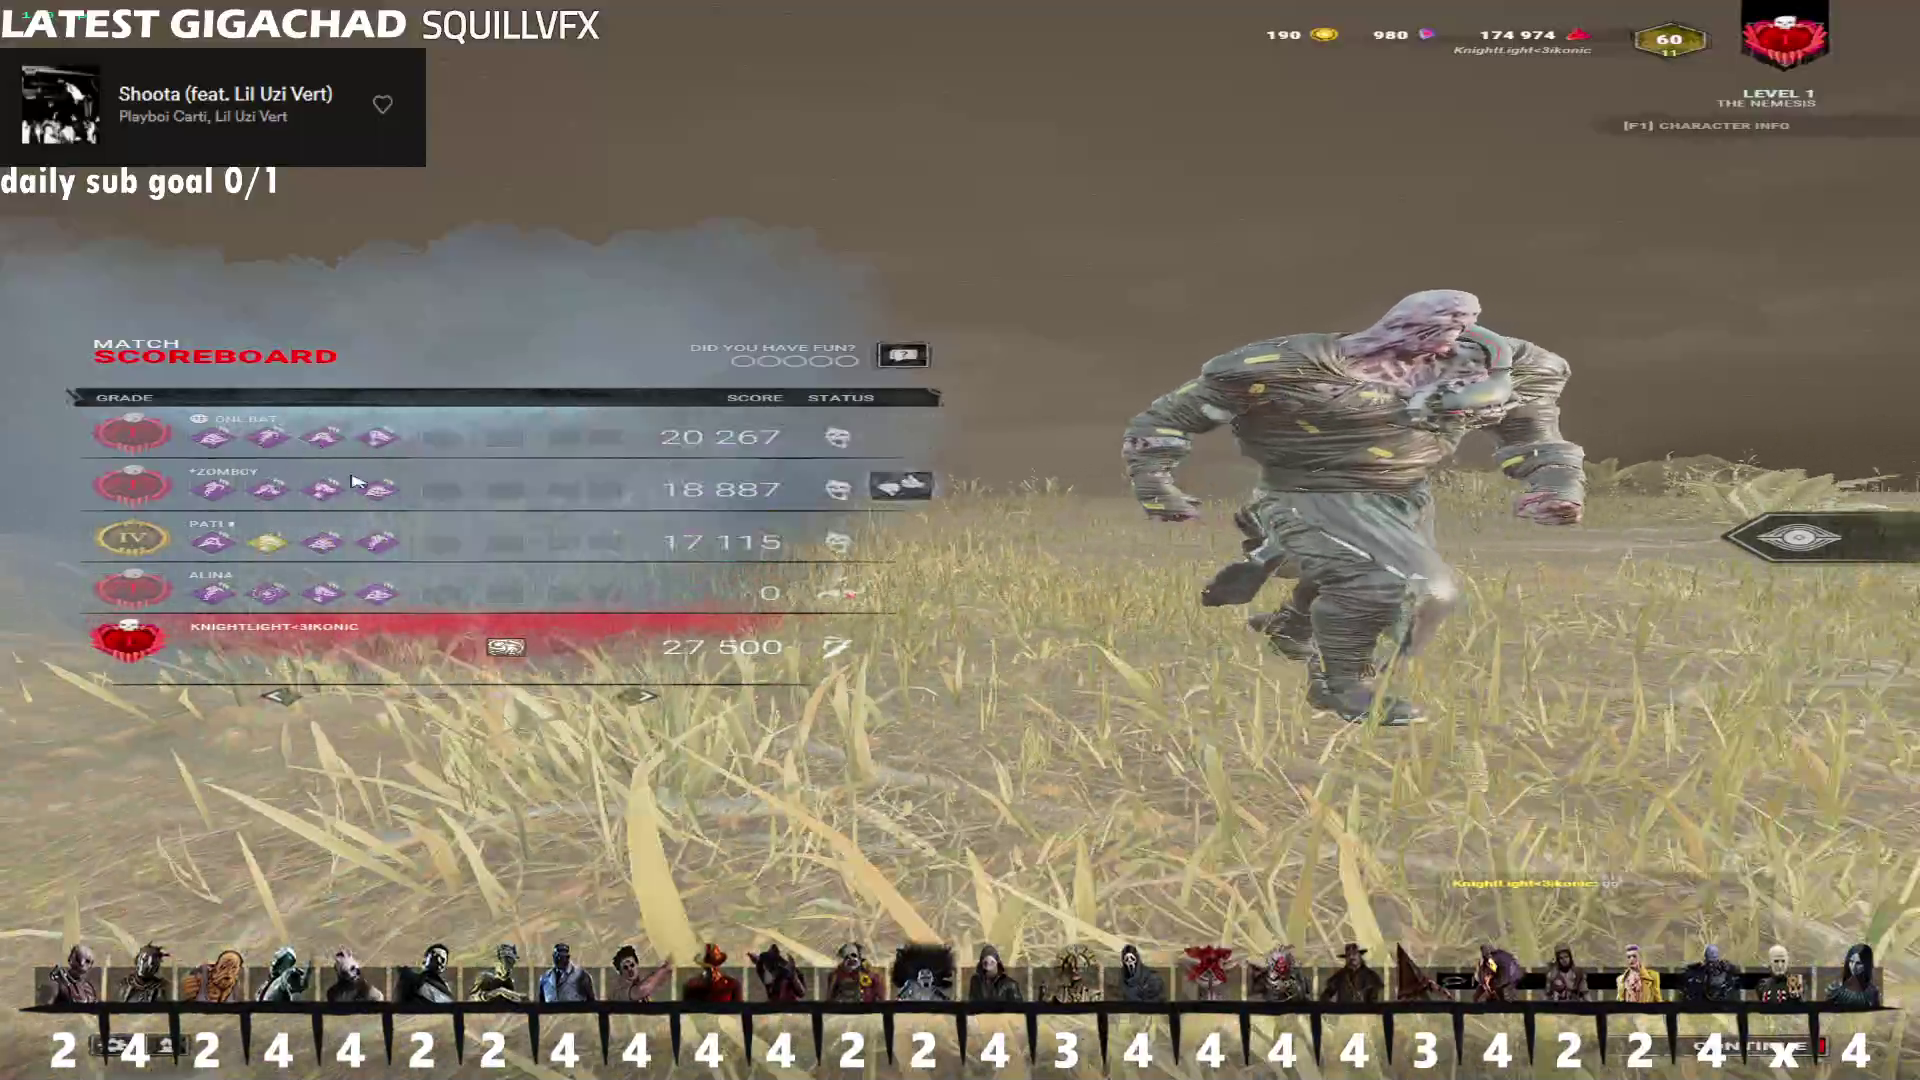blank_perk: (189, 638, 236, 659), (295, 638, 343, 659), (352, 638, 400, 659), (243, 638, 289, 659)
borrowed_time: (352, 426, 400, 448), (243, 531, 290, 554), (298, 582, 345, 604), (299, 479, 345, 501)
circle_of_healing: (244, 582, 291, 604)
dead_hard: (244, 426, 291, 448), (189, 479, 235, 501), (353, 531, 400, 554), (189, 583, 235, 605)
decisive_strike: (298, 426, 345, 448), (243, 479, 290, 501), (189, 531, 236, 554)
iron_will: (352, 583, 400, 605), (353, 480, 400, 502), (299, 531, 345, 554), (190, 427, 237, 448)
